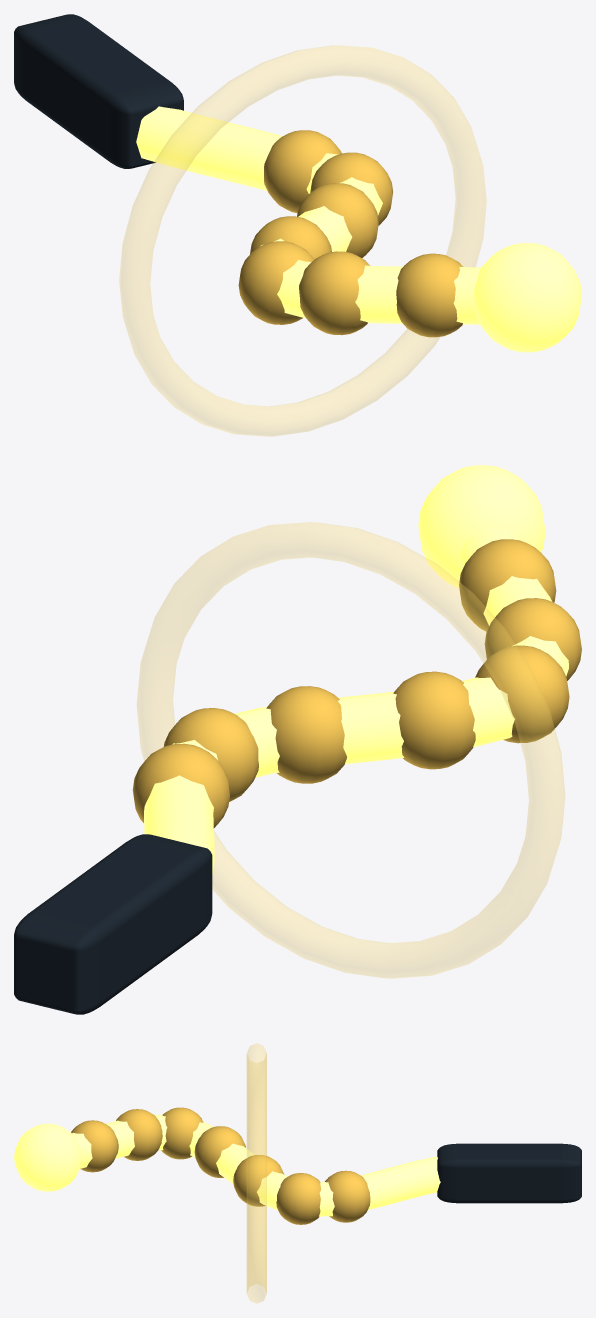
File: whip-10.glb
The picture shows the model from 3 angles, top to bottom: view 1: azimuth 30°, elevation 25°; view 2: azimuth 150°, elevation 25°; view 3: azimuth 270°, elevation 25°; orthographic projection. The views are drawn at different scales.
Size of the model in its own units: 0.7475 by 0.7475 by 1.63.
